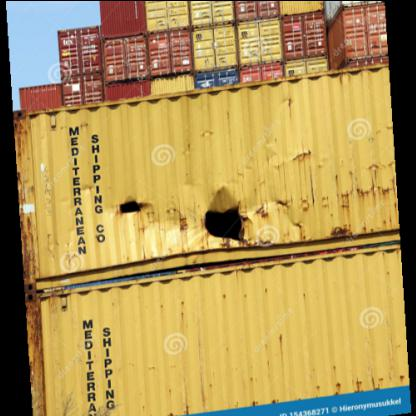Damage: (278, 152, 408, 208), (188, 200, 281, 256), (100, 189, 156, 229)
